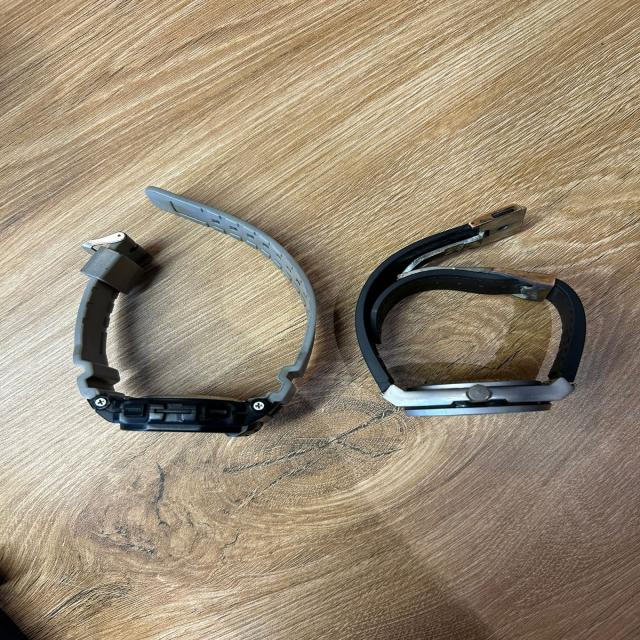watch: (71, 185, 318, 438), (353, 202, 587, 418)
